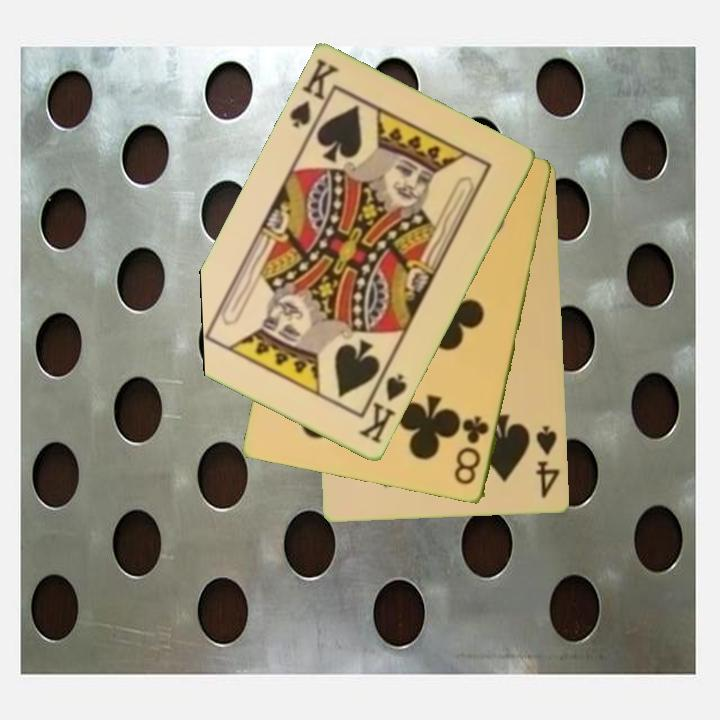4s: (533, 422, 563, 502)
8c: (451, 413, 493, 488)
Ks: (286, 56, 343, 139), (355, 365, 410, 447)
